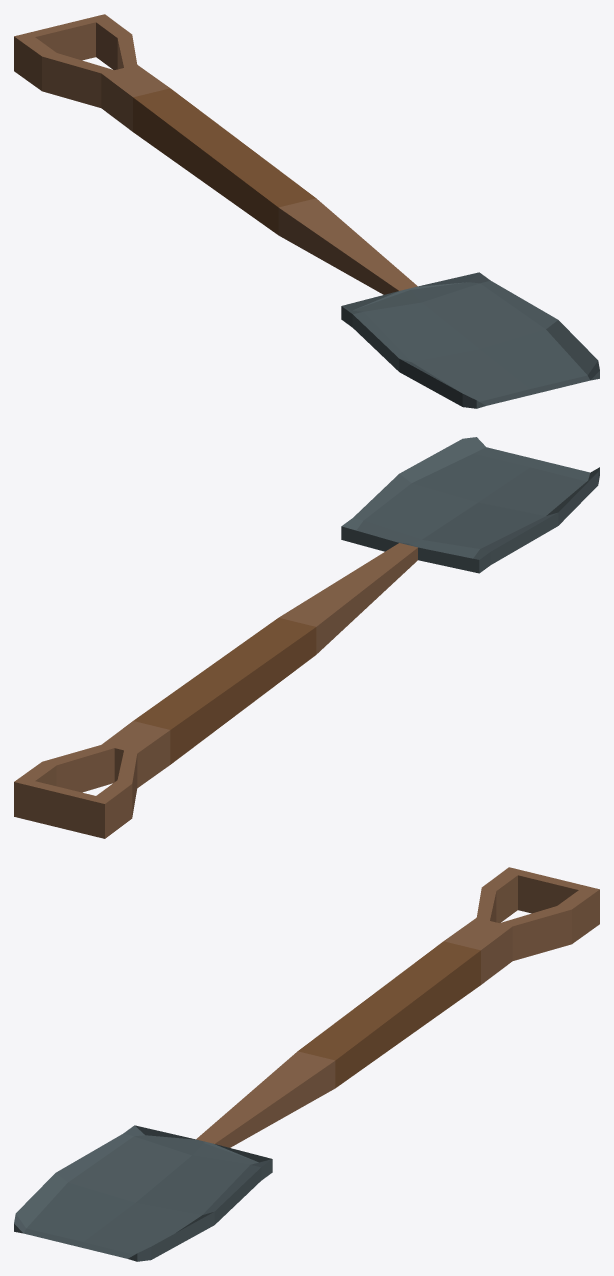
File: Shovel_2_Light_Brown.fbx
The picture shows the model from 3 angles, top to bottom: view 1: azimuth 30°, elevation 25°; view 2: azimuth 150°, elevation 25°; view 3: azimuth 330°, elevation 25°; orthographic projection.
Visible parts, largest first — view 1: Shovel_2_Light_Brown; view 2: Shovel_2_Light_Brown; view 3: Shovel_2_Light_Brown.
Part boxes in pixels (x1,y1,x2,y2): Shovel_2_Light_Brown: (14, 14, 599, 408); Shovel_2_Light_Brown: (14, 437, 599, 838); Shovel_2_Light_Brown: (14, 867, 599, 1261).
Bounding box in the file's own units: 38.28 × 8.01 × 200.
